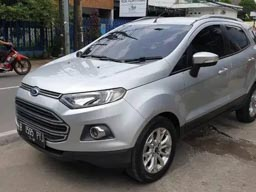plat: (18, 123, 45, 149)
